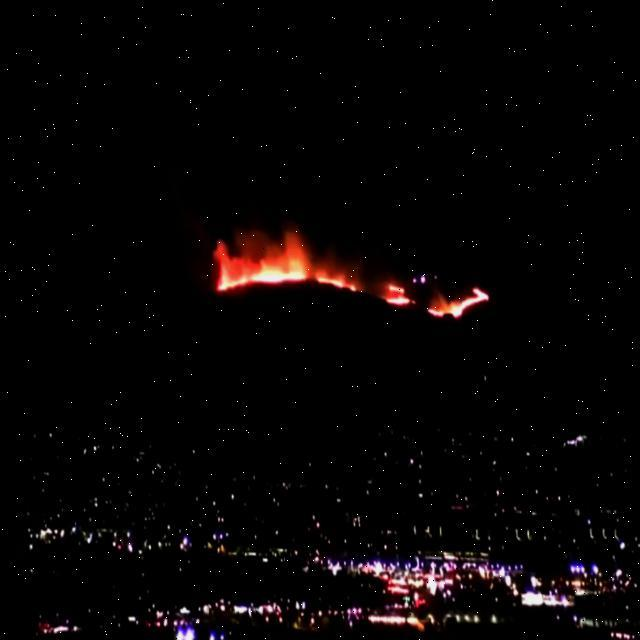Fire: (208, 215, 356, 290), (423, 276, 488, 313), (383, 274, 413, 303)
